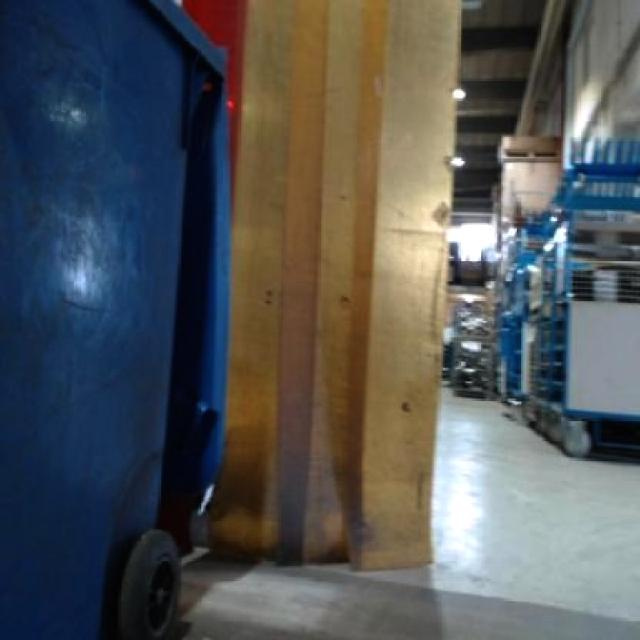pallets: (495, 134, 637, 454)
